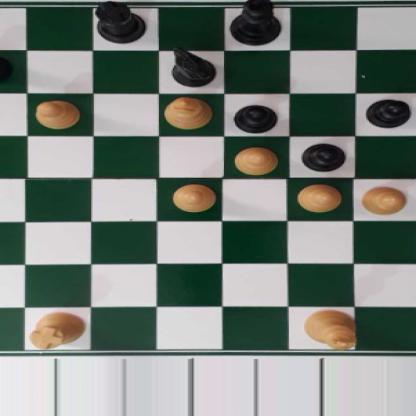black-king: (229, 0, 282, 47)
black-knight: (169, 47, 216, 85)
black-pawn: (232, 101, 279, 132), (301, 141, 346, 173), (365, 97, 410, 128), (0, 50, 12, 83)
black-rook: (93, 0, 149, 42)
white-bishop: (166, 95, 210, 130)
white-king: (303, 308, 357, 351)
white-pawn: (35, 98, 82, 130), (361, 184, 408, 215), (231, 145, 281, 174), (296, 181, 341, 213), (170, 184, 216, 212)
white-rook: (30, 311, 87, 349)
